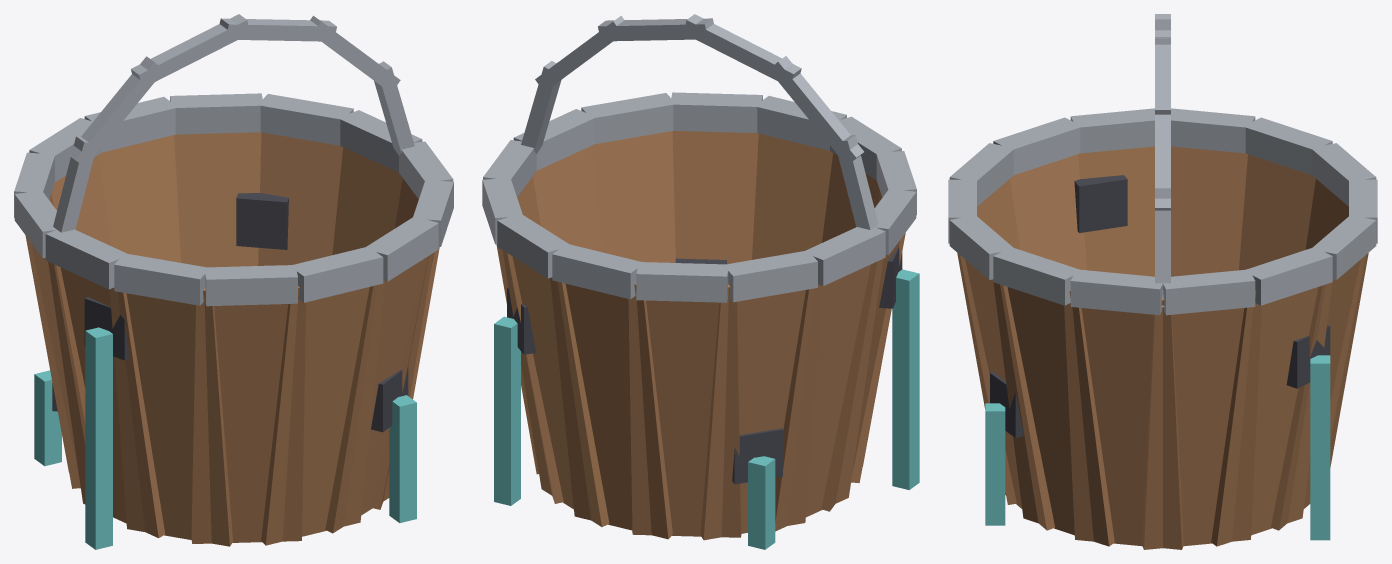
File: bucket_leaky.glb
3 renders of one model, left to right at view 1: azimuth 30°, elevation 25°; view 2: azimuth 150°, elevation 25°; view 3: azimuth 270°, elevation 25°, orthographic. The views are drawn at different scales.
Visible parts, largest first — view 1: bucket_leaky; view 2: bucket_leaky; view 3: bucket_leaky.
Part boxes in pixels (x1=…): bucket_leaky: x1=14, y1=14, x2=453, y2=549; bucket_leaky: x1=482, y1=14, x2=919, y2=549; bucket_leaky: x1=948, y1=14, x2=1377, y2=549.
Size of the model in its own units: 0.75 by 0.8629 by 0.75.
